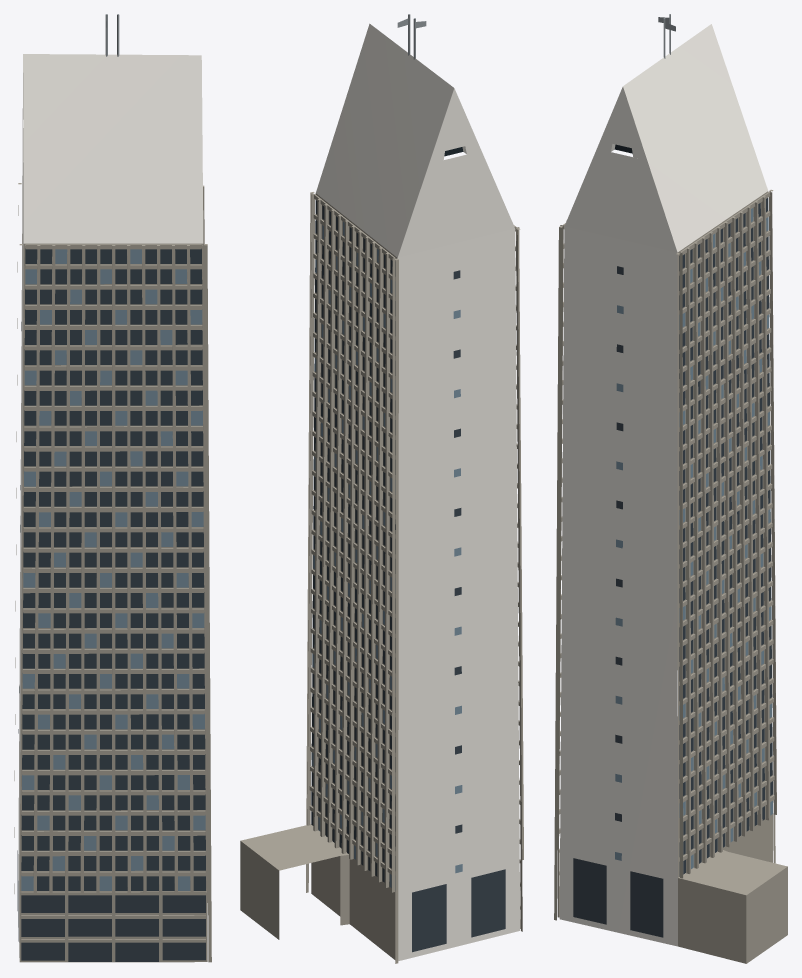
File: edificio-coltejer-far.glb
3 renders of one model, left to right at view 1: azimuth 30°, elevation 25°; view 2: azimuth 150°, elevation 25°; view 3: azimuth 270°, elevation 25°, orthographic. The views are drawn at different scales.
Visible parts, largest first — view 1: edificio-coltejer-0-glass, edificio-coltejer-0-concrete, edificio-coltejer-0-end, edificio-coltejer-0-glow; view 2: edificio-coltejer-0-end, edificio-coltejer-0-concrete, edificio-coltejer-0-glass, edificio-coltejer-0-glow; view 3: edificio-coltejer-0-end, edificio-coltejer-0-concrete, edificio-coltejer-0-glass, edificio-coltejer-0-glow.
Boxes of the visible parts, x1=… form: edificio-coltejer-0-glass: x1=17, y1=248, x2=205, y2=961; edificio-coltejer-0-concrete: x1=14, y1=183, x2=211, y2=962; edificio-coltejer-0-end: x1=18, y1=54, x2=203, y2=957; edificio-coltejer-0-glow: x1=19, y1=249, x2=205, y2=890; edificio-coltejer-0-end: x1=316, y1=23, x2=520, y2=960; edificio-coltejer-0-concrete: x1=240, y1=192, x2=523, y2=963; edificio-coltejer-0-glass: x1=311, y1=200, x2=505, y2=952; edificio-coltejer-0-glow: x1=311, y1=222, x2=462, y2=890; edificio-coltejer-0-end: x1=559, y1=24, x2=768, y2=946; edificio-coltejer-0-concrete: x1=554, y1=189, x2=787, y2=963; edificio-coltejer-0-glass: x1=573, y1=198, x2=772, y2=937; edificio-coltejer-0-glow: x1=615, y1=208, x2=772, y2=868.
Bounding box in the file's own units: 50.35 × 183 × 43.84.
